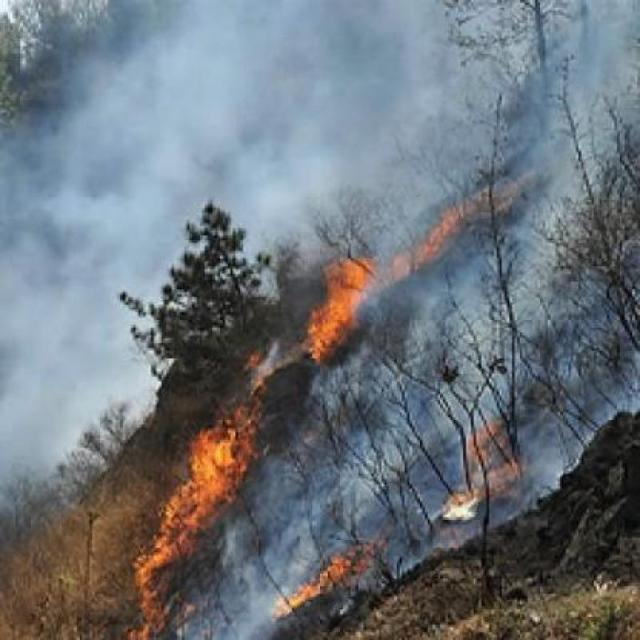Fire: (146, 390, 244, 640), (263, 538, 360, 640), (302, 261, 386, 367), (414, 181, 482, 274), (462, 422, 528, 504)
Smoke: (4, 74, 139, 514), (144, 84, 304, 338), (482, 137, 628, 408), (273, 398, 453, 526)
